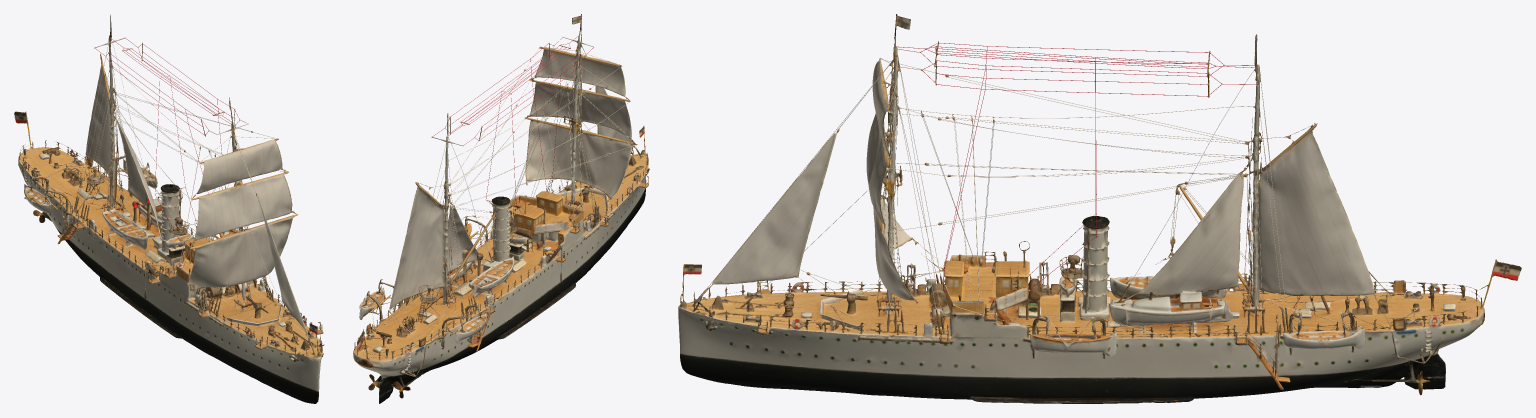
Rendered from Meteor_4K.glb.
3 renders of one model, left to right at view 1: azimuth 30°, elevation 25°; view 2: azimuth 150°, elevation 25°; view 3: azimuth 270°, elevation 25°, orthographic. The views are drawn at different scales.
Parts seen in each view (by area): view 1: Meteor_Final_4K; view 2: Meteor_Final_4K; view 3: Meteor_Final_4K.
Part boxes in pixels (x1,y1,x2,y2): Meteor_Final_4K: [14, 14, 324, 403]; Meteor_Final_4K: [353, 14, 649, 403]; Meteor_Final_4K: [678, 14, 1521, 403].
Bounding box in the file's own units: 0.177 × 0.3559 × 0.7423.
3 materials, 1 textured.
